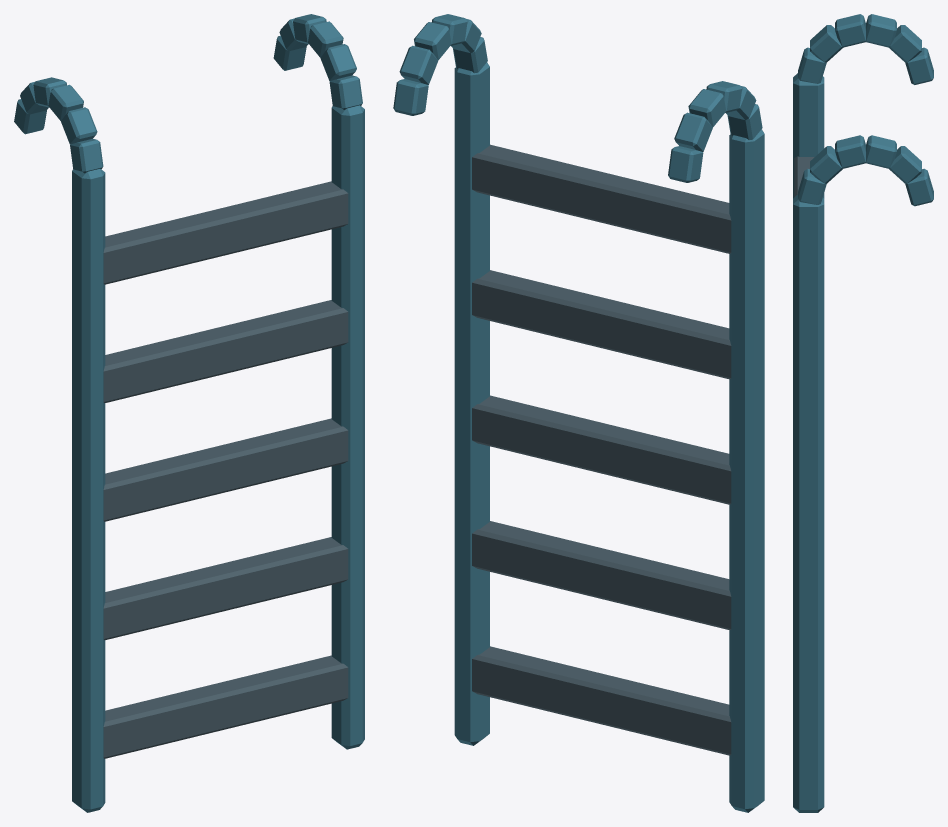
File: 12_Dock_Ladder.glb
3 renders of one model, left to right at view 1: azimuth 30°, elevation 25°; view 2: azimuth 150°, elevation 25°; view 3: azimuth 270°, elevation 25°, orthographic. The views are drawn at different scales.
Parts seen in each view (by area): view 1: 12_Dock_Ladder__Body; view 2: 12_Dock_Ladder__Body; view 3: 12_Dock_Ladder__Body.
Part boxes in pixels (x1,y1,x2,y2): 12_Dock_Ladder__Body: (14, 14, 364, 812); 12_Dock_Ladder__Body: (393, 14, 764, 812); 12_Dock_Ladder__Body: (793, 14, 933, 812).
Bounding box in the file's own units: 1.2 × 2.84 × 0.5407.
1 material, 1 textured.
